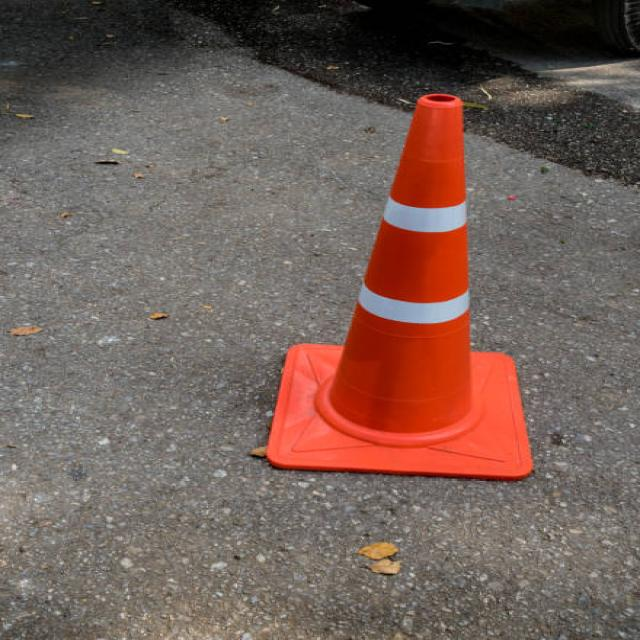Traffic Cone: (192, 66, 584, 523)
